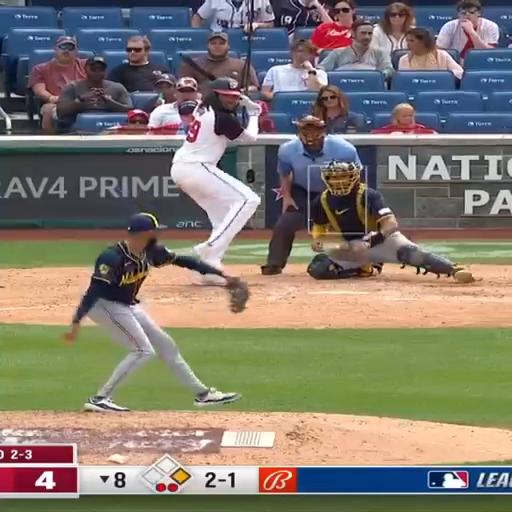bat: (180, 54, 216, 80)
